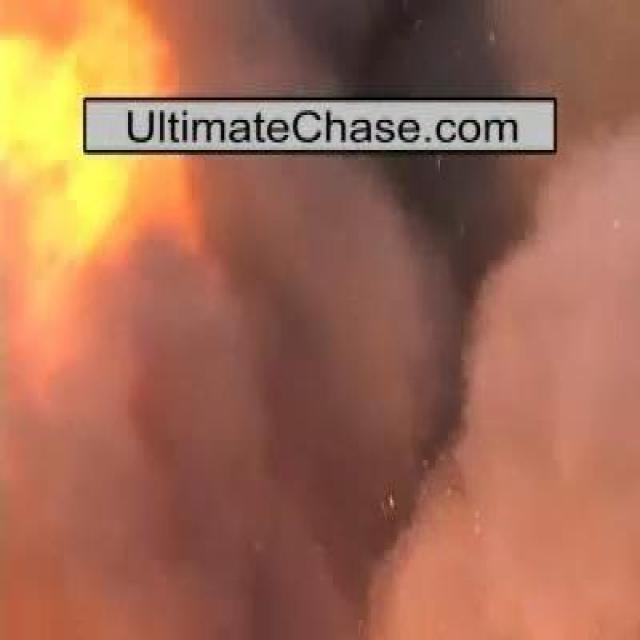Smoke: (191, 161, 556, 569)
